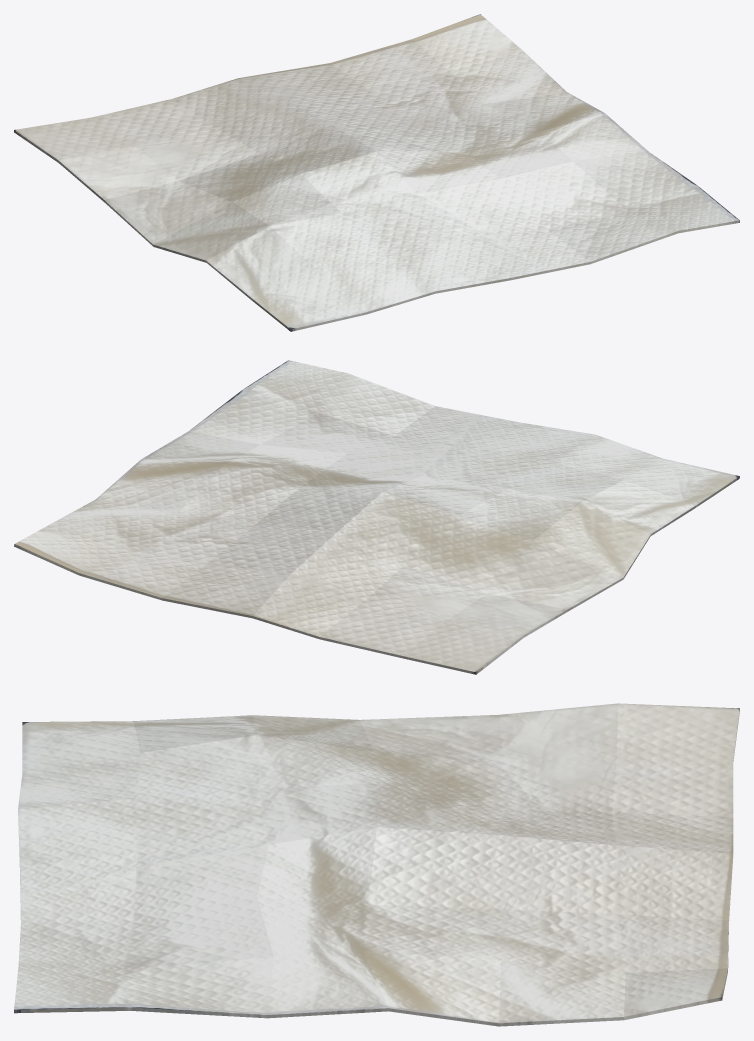
File: Napkin1.fbx
The picture shows the model from 3 angles, top to bottom: view 1: azimuth 30°, elevation 25°; view 2: azimuth 150°, elevation 25°; view 3: azimuth 270°, elevation 25°; orthographic projection. The views are drawn at different scales.
Visible parts, largest first — view 1: Plane.001; view 2: Plane.001; view 3: Plane.001.
Boxes of the visible parts, x1,y1,x2,y2 form: Plane.001: [14, 14, 739, 331]; Plane.001: [14, 360, 739, 674]; Plane.001: [14, 703, 739, 1026].
Bounding box in the file's own units: 2 × 0.1437 × 2.
1 material, 1 textured.
